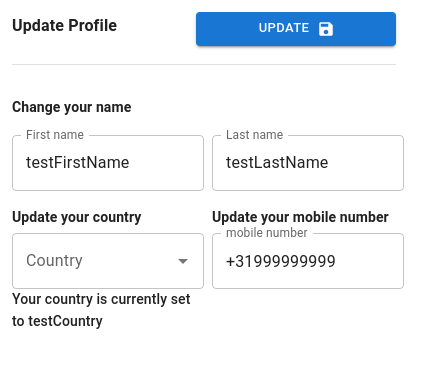
Test case: Testing profile settings › shows flash error on failed patch
Click the button "Update" at (296, 29), box [196, 12, 396, 46]
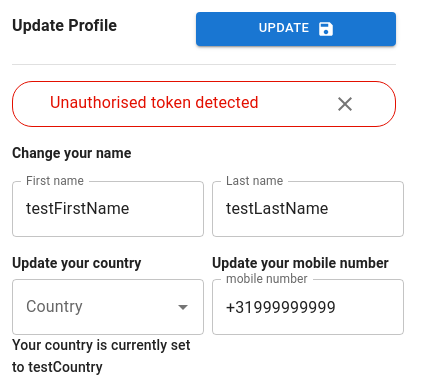
Check: the text "Unauthorised token detected" is shown, box [18, 87, 259, 115]
